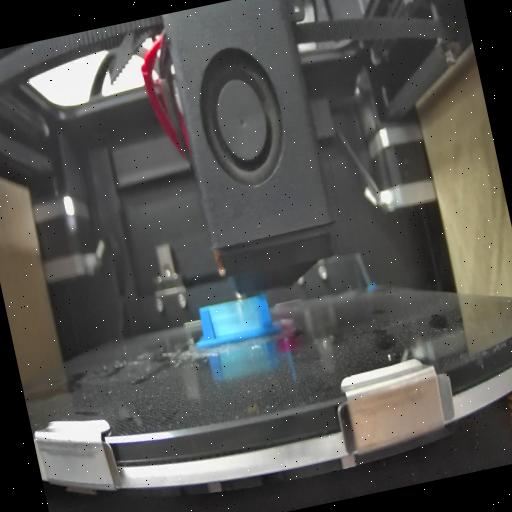stringing: (208, 296, 261, 342)
